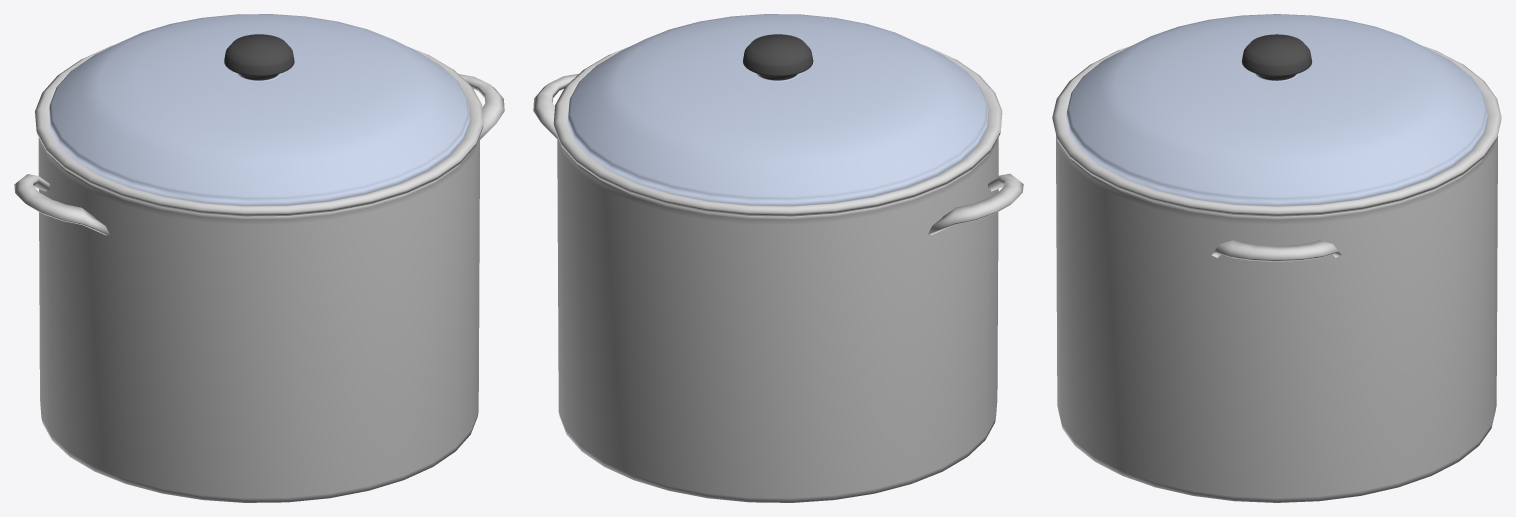
The model's file is pot.dae.
3 renders of one model, left to right at view 1: azimuth 30°, elevation 25°; view 2: azimuth 150°, elevation 25°; view 3: azimuth 270°, elevation 25°, orthographic.
Visible parts, largest first — view 1: Cylinder.005, Cylinder.006; view 2: Cylinder.005, Cylinder.006; view 3: Cylinder.005, Cylinder.006.
Part boxes in pixels (x1,y1,x2,y2): Cylinder.005: [14, 74, 504, 502]; Cylinder.006: [35, 14, 483, 216]; Cylinder.005: [533, 73, 1023, 502]; Cylinder.006: [553, 14, 1002, 216]; Cylinder.005: [1056, 135, 1497, 502]; Cylinder.006: [1052, 14, 1501, 216].
Bounding box in the file's own units: 2.36 × 1.96 × 1.79.
